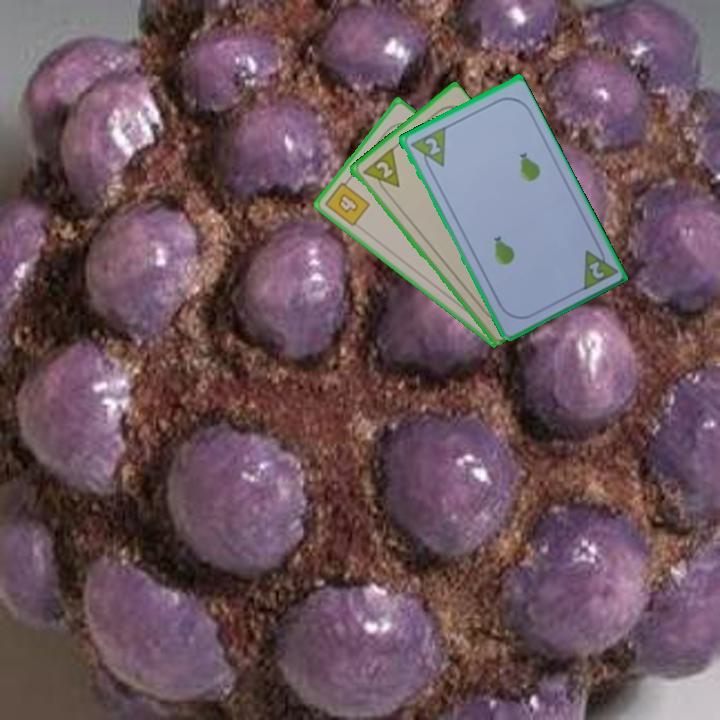2p: (372, 157, 396, 181), (585, 257, 607, 282), (421, 134, 443, 158)
4b: (321, 174, 373, 229)
